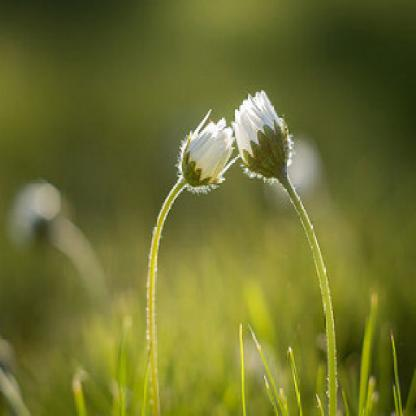ASTER: (145, 43, 338, 240)
